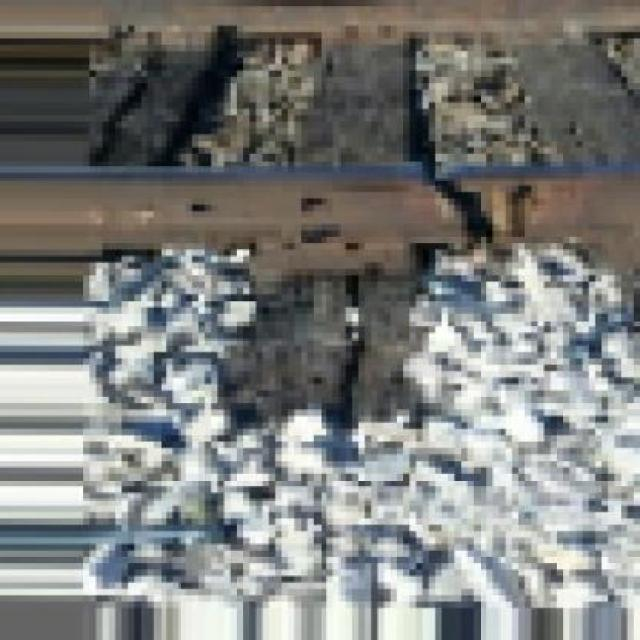defective: (267, 77, 640, 391)
